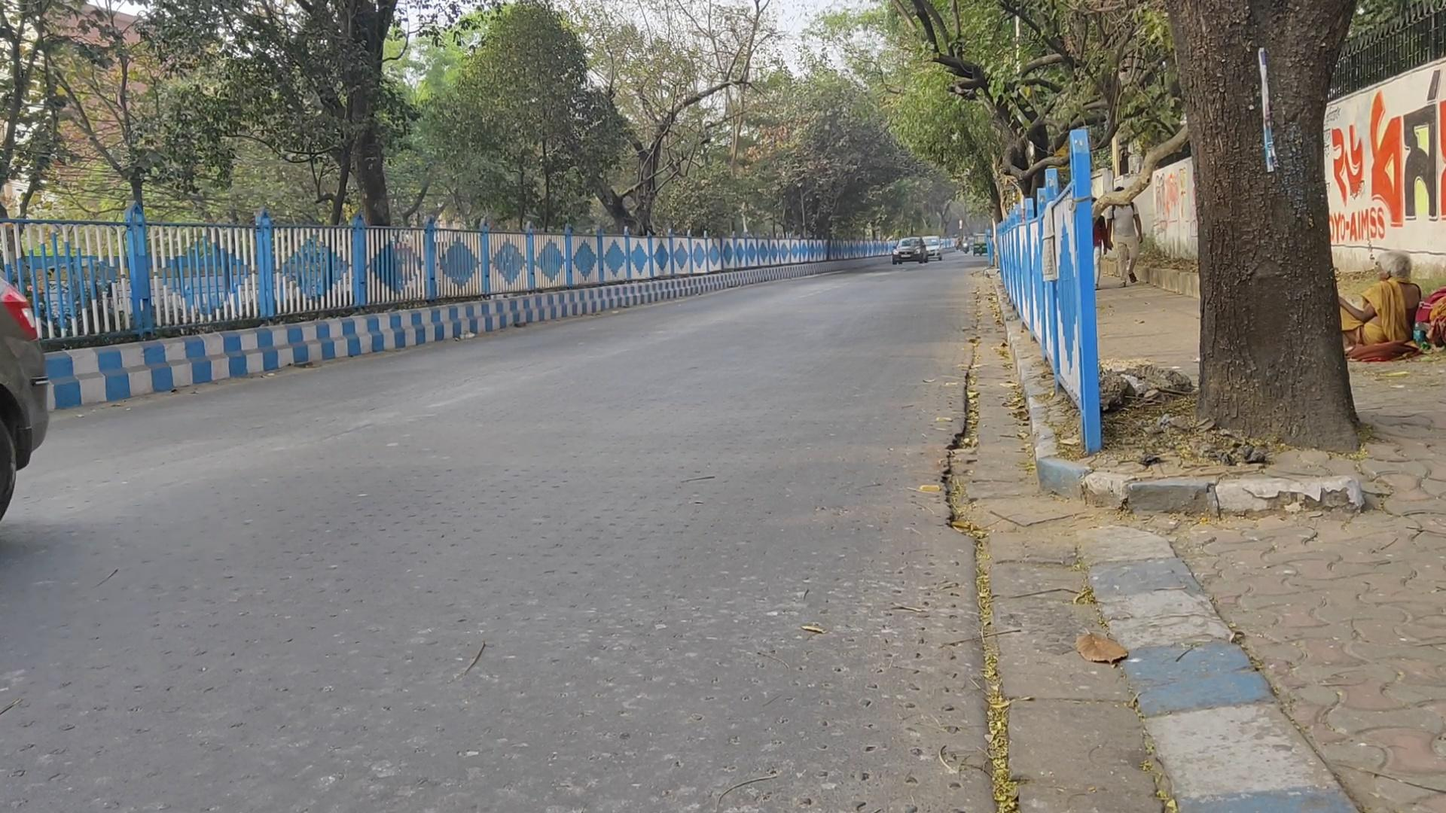Auto: (972, 233, 988, 257)
car: (892, 236, 929, 265), (921, 236, 944, 262)
